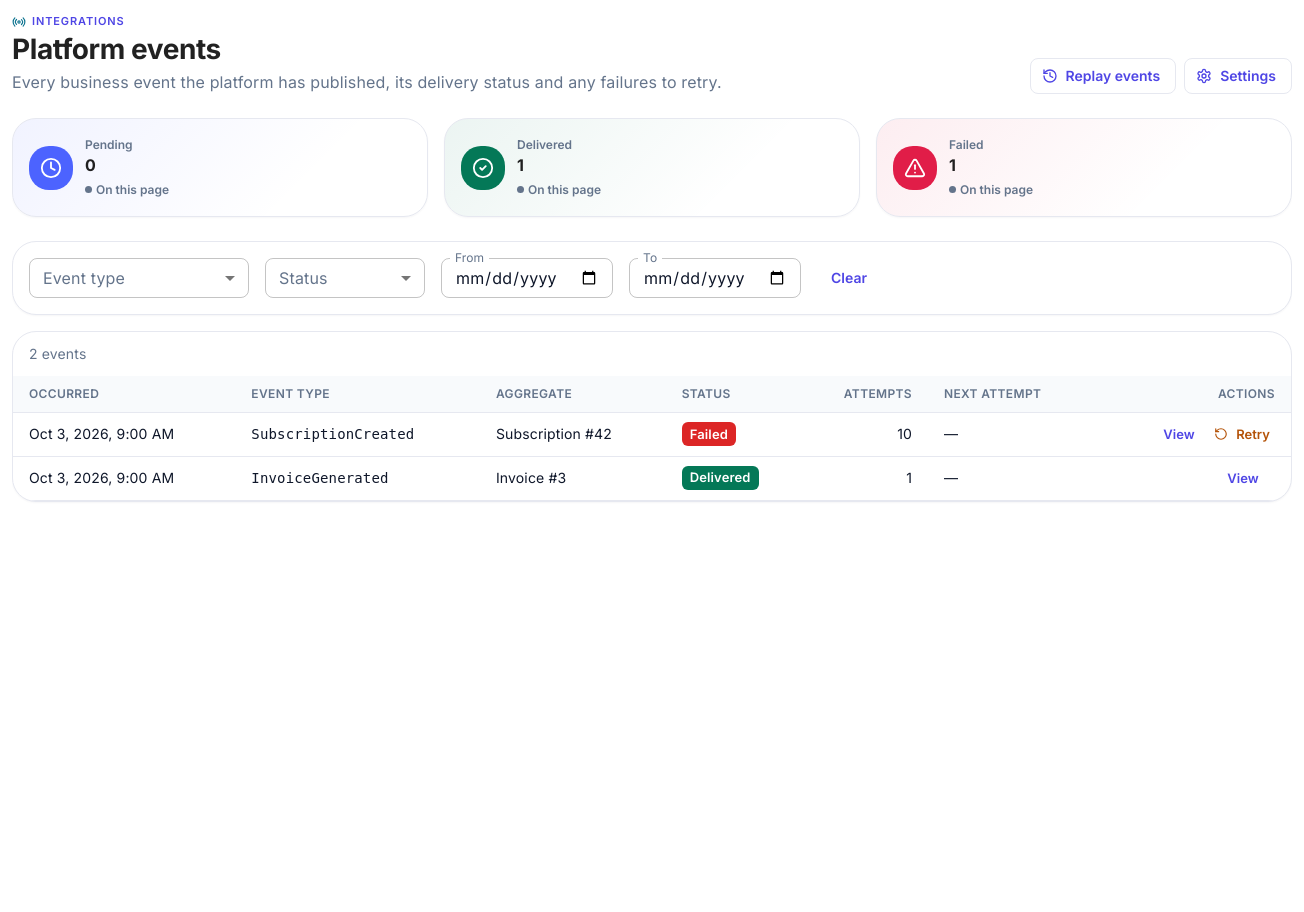
Test case: AdminPlatformEventsPage › retries a failed event
This screenshot has width=1304, height=912.
Click the button with aria-label "Retry SubscriptionCreated event 7" at (1243, 434), box [1211,419,1275,450]
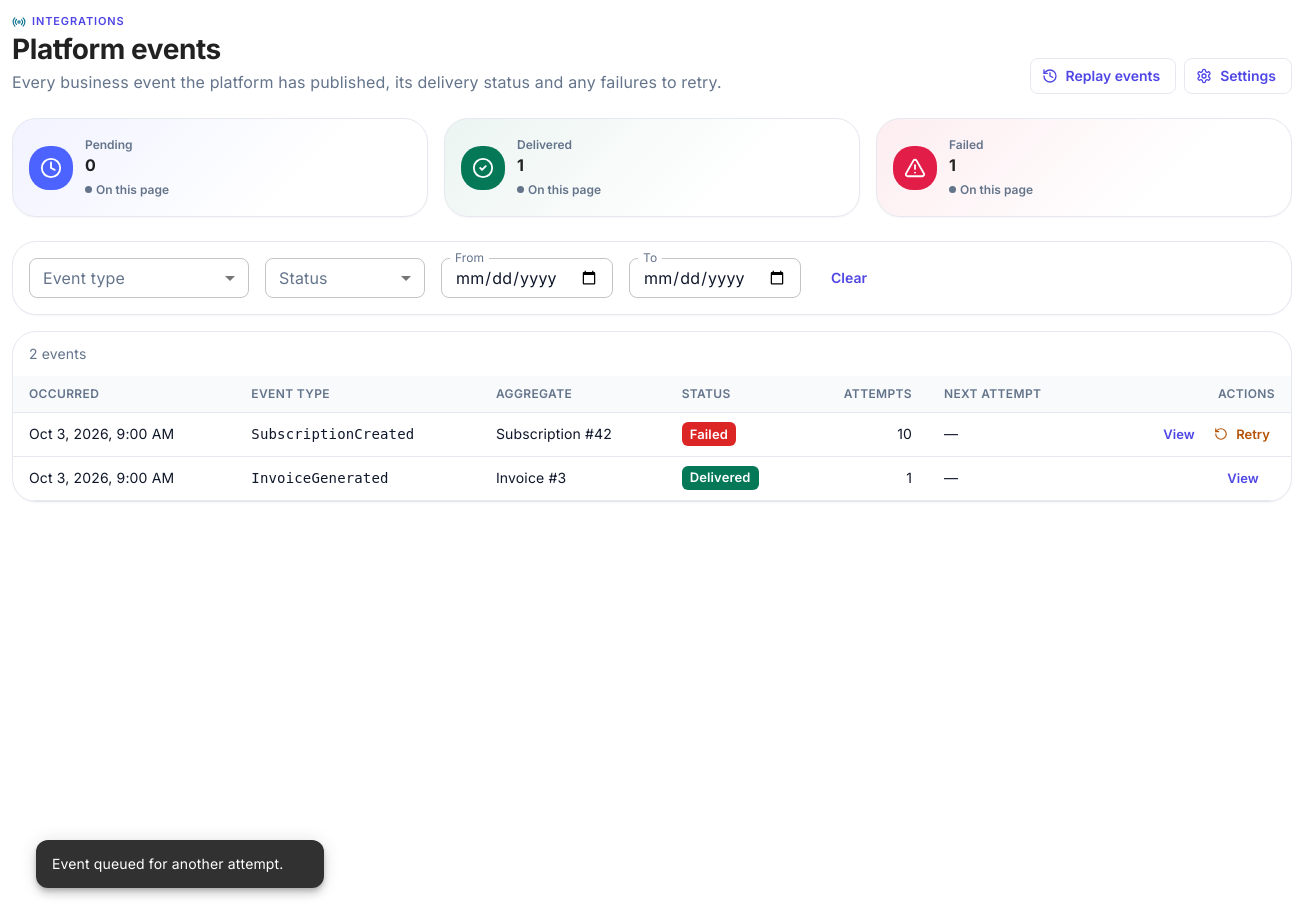
Result: the text "Event queued for another attempt." is shown at [52,855,284,872]
